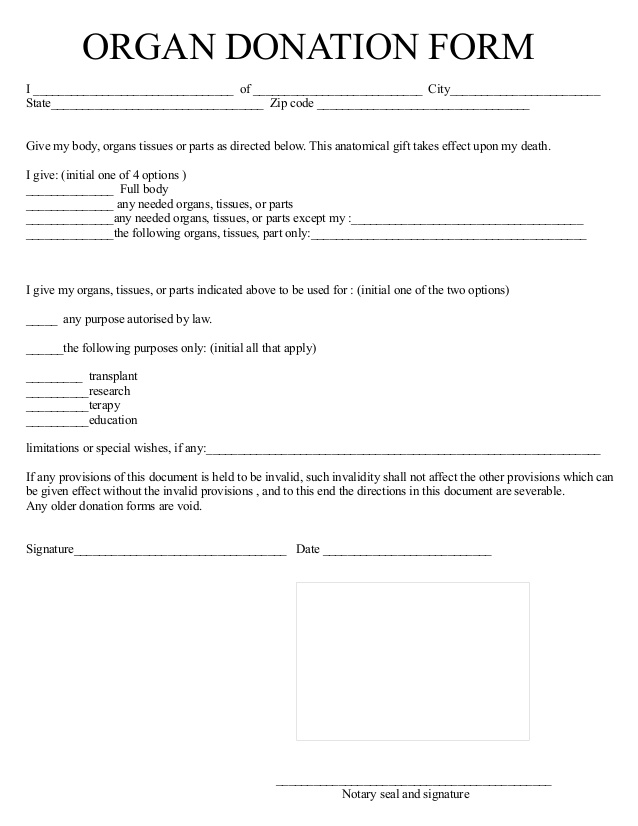textline: (203, 438, 609, 459), (71, 532, 290, 560), (320, 532, 502, 561), (350, 208, 590, 228), (309, 227, 589, 243), (249, 75, 426, 99), (31, 80, 236, 100), (446, 74, 604, 99), (312, 98, 535, 113), (49, 99, 269, 114), (21, 195, 114, 216), (21, 213, 117, 230), (21, 181, 116, 198), (22, 228, 116, 244), (23, 413, 92, 431), (24, 366, 84, 386), (23, 399, 91, 415), (24, 385, 87, 401), (24, 339, 65, 358), (22, 307, 58, 328)
